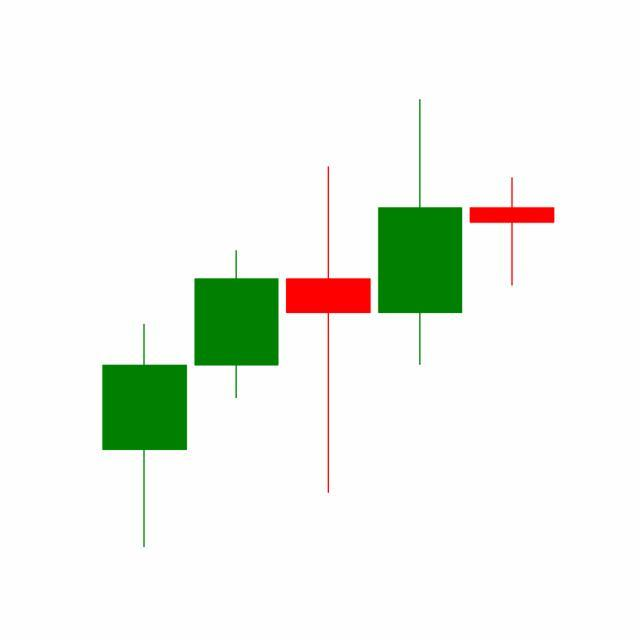Spinning Top: (466, 176, 559, 288)
